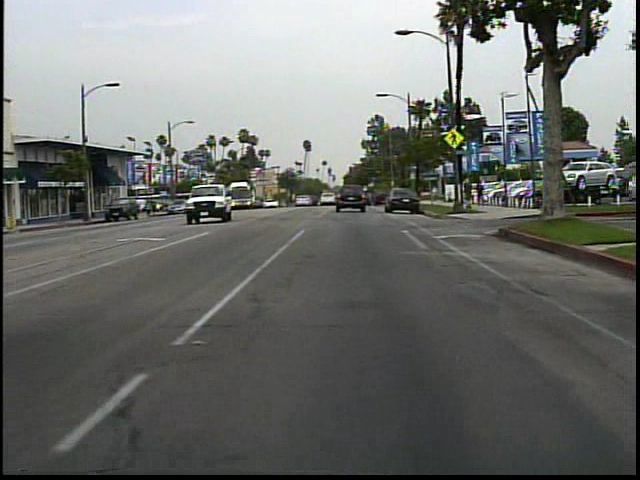person: (547, 175, 570, 221)
